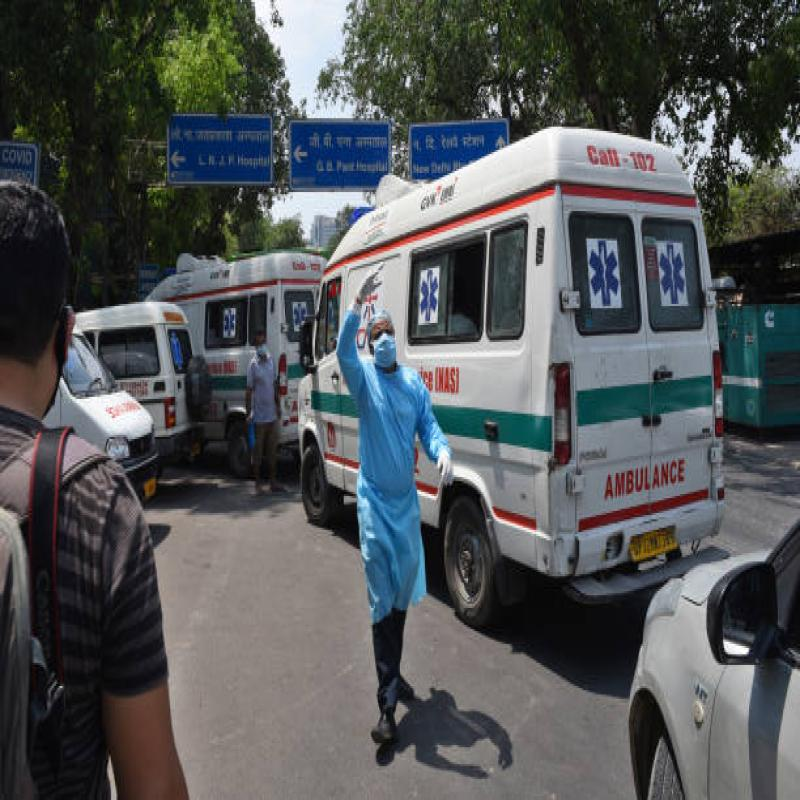ambulance: (315, 170, 704, 570)
